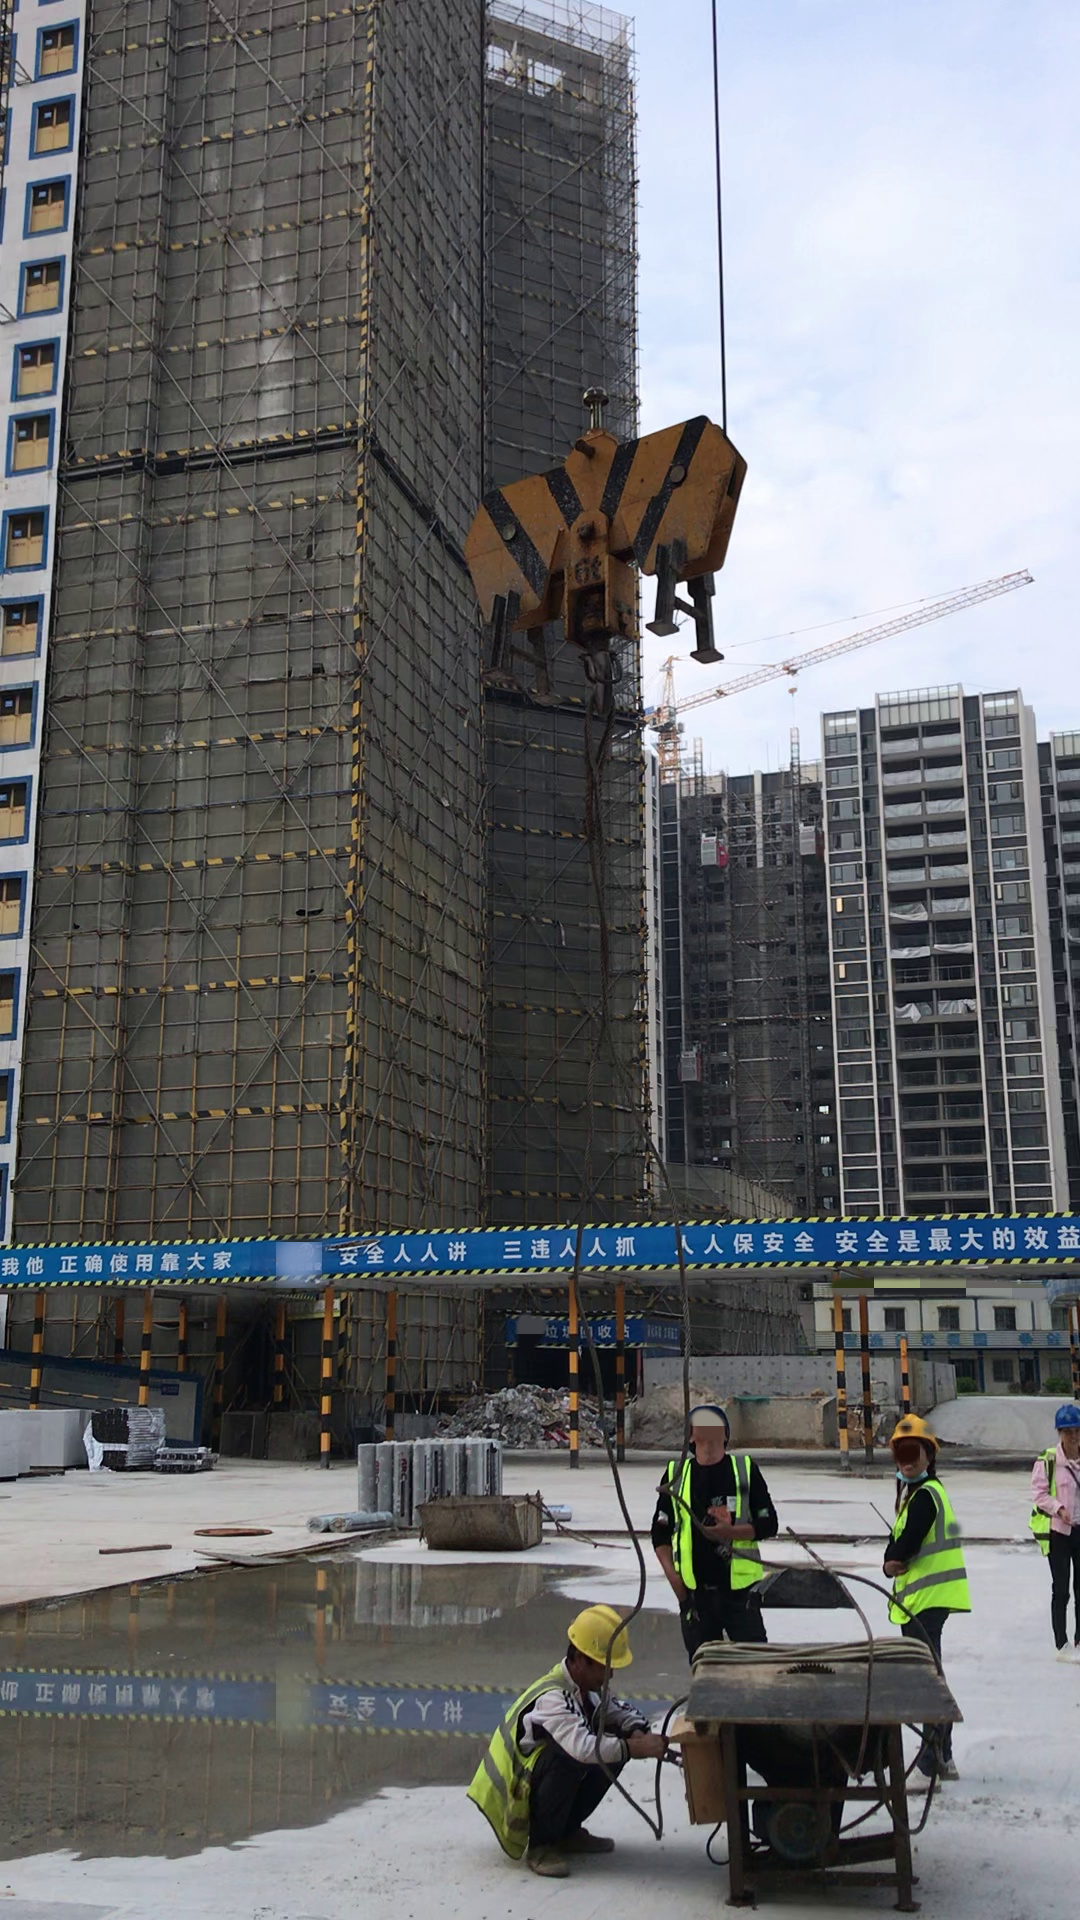helmet: (555, 1589, 634, 1679), (889, 1414, 937, 1449), (1058, 1394, 1080, 1434)
hook: (433, 395, 792, 729)
hopper: (410, 1482, 563, 1562)
person: (460, 1599, 678, 1885), (873, 1402, 976, 1824), (664, 1389, 775, 1665), (1036, 1406, 1080, 1618)
slogan: (1, 1218, 1067, 1286)
vest: (452, 1670, 596, 1865), (651, 1450, 764, 1606), (886, 1479, 970, 1639), (1033, 1441, 1080, 1552)
